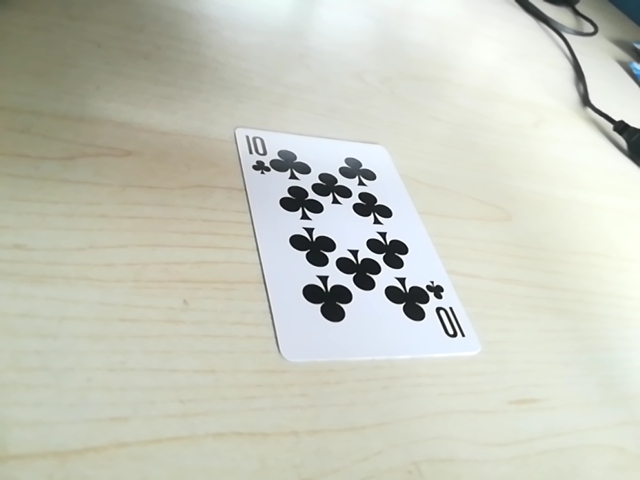mh 10: (239, 133, 283, 182), (422, 291, 461, 345)
